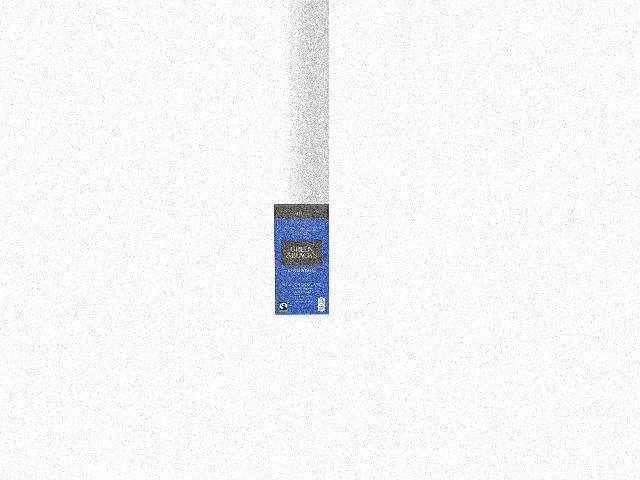chocolate: (273, 204, 330, 313)
